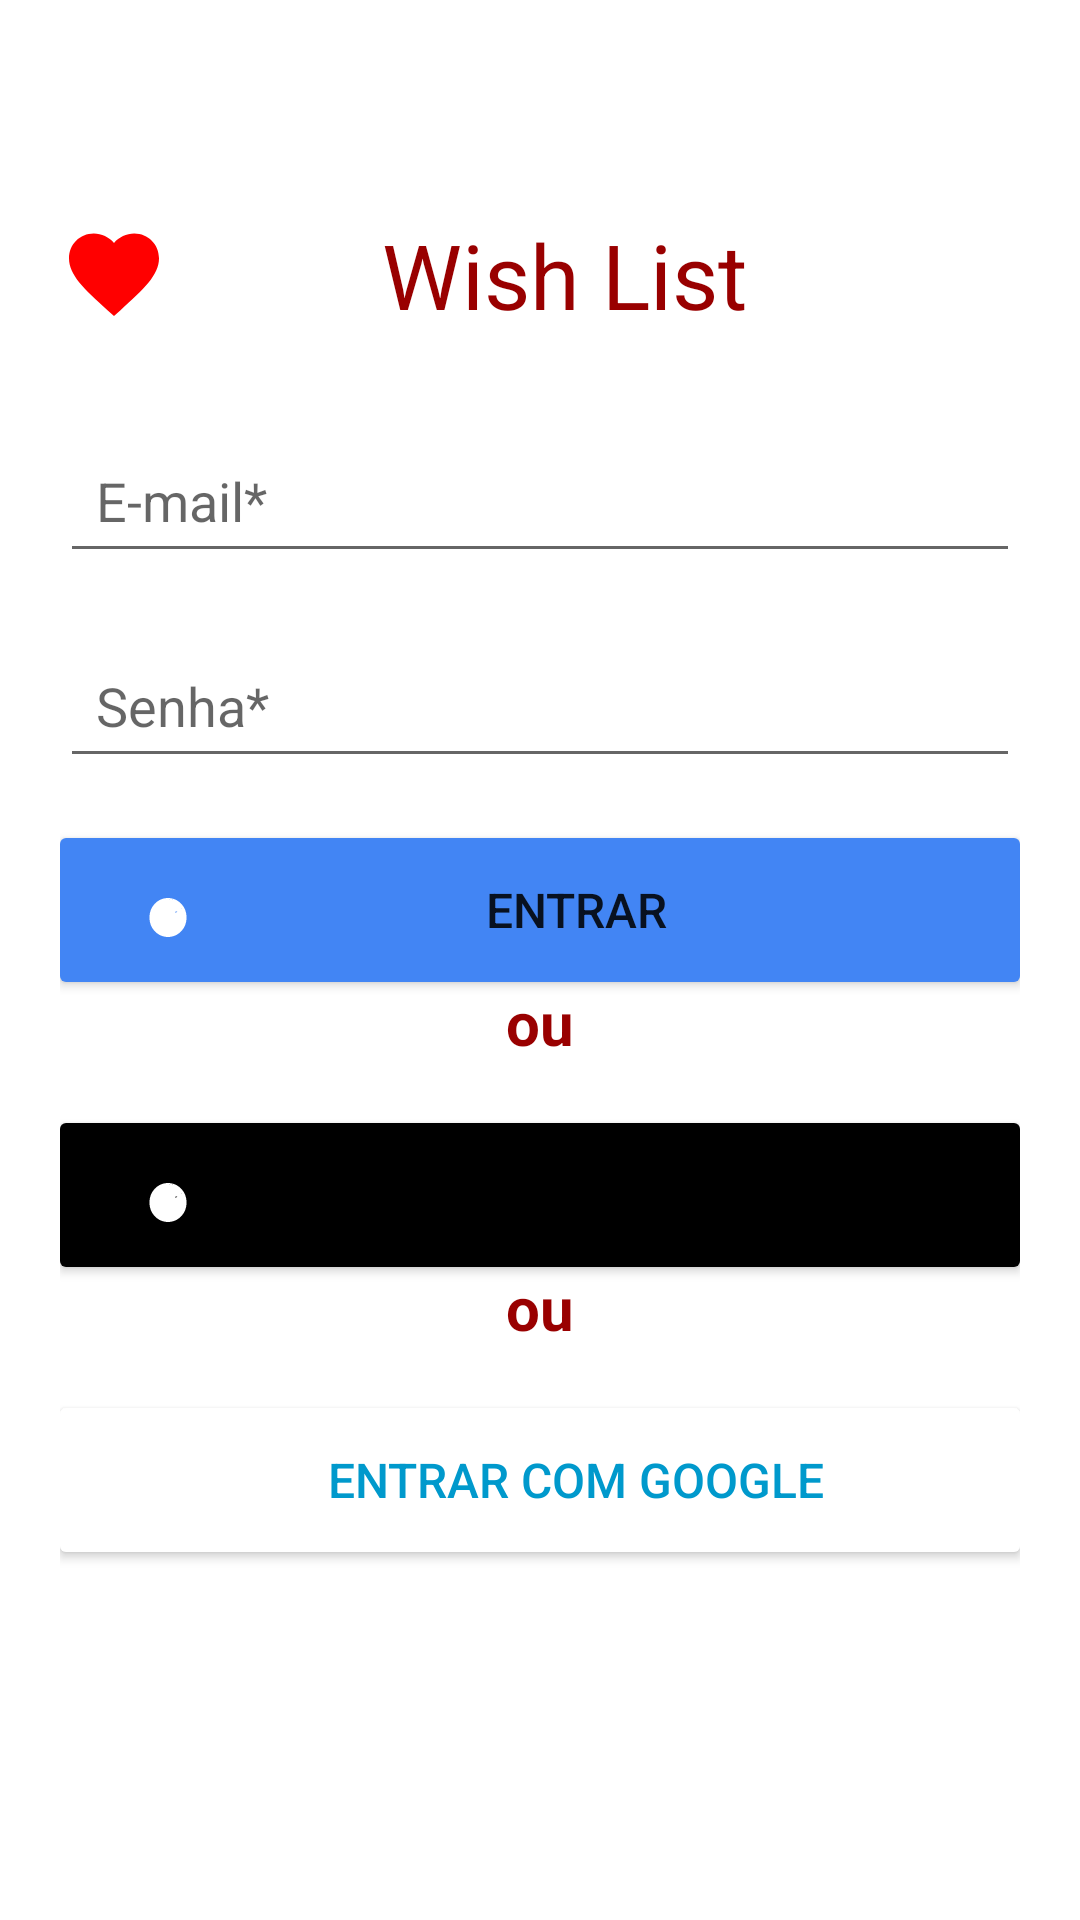

Locate icon controls on the screen. Image size 1080w x 1920h, boxes as (x1, y1, x2, y2).
heart: (69, 233, 159, 316)
